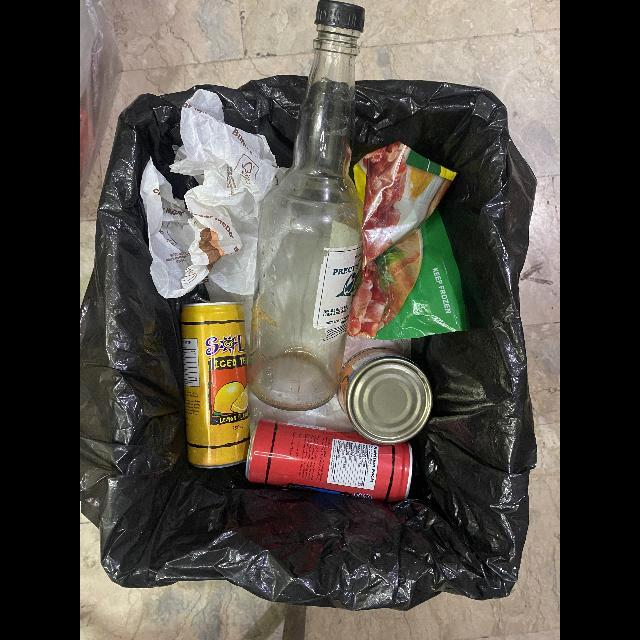aluminum: (245, 418, 414, 505), (181, 301, 250, 470), (337, 347, 433, 445)
food_wrapper: (346, 142, 467, 342)
glass_bottle: (247, 0, 366, 412)
paper: (140, 90, 279, 303)
